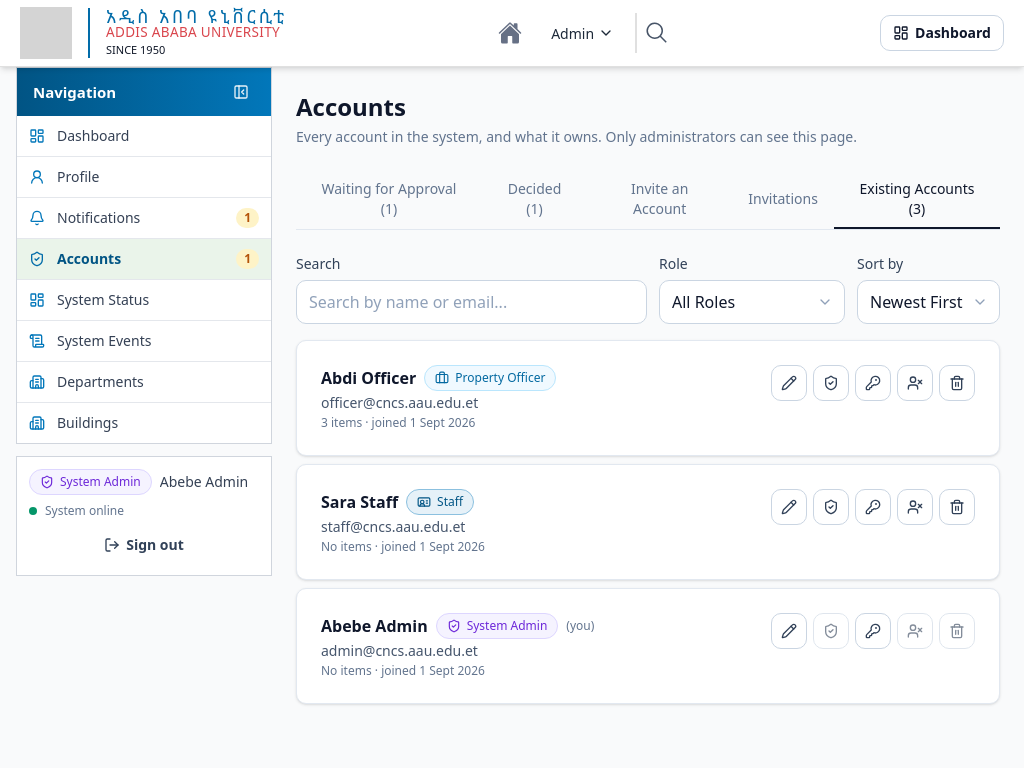
Test: /admin/users — inviting a privileged account (T6) › hands the administrator the single-use link when nothing was emailed
The image size is (1024, 768).
Click the button "Invite an Account" at (660, 200), box top-left (587, 171), bottom-right (732, 229)
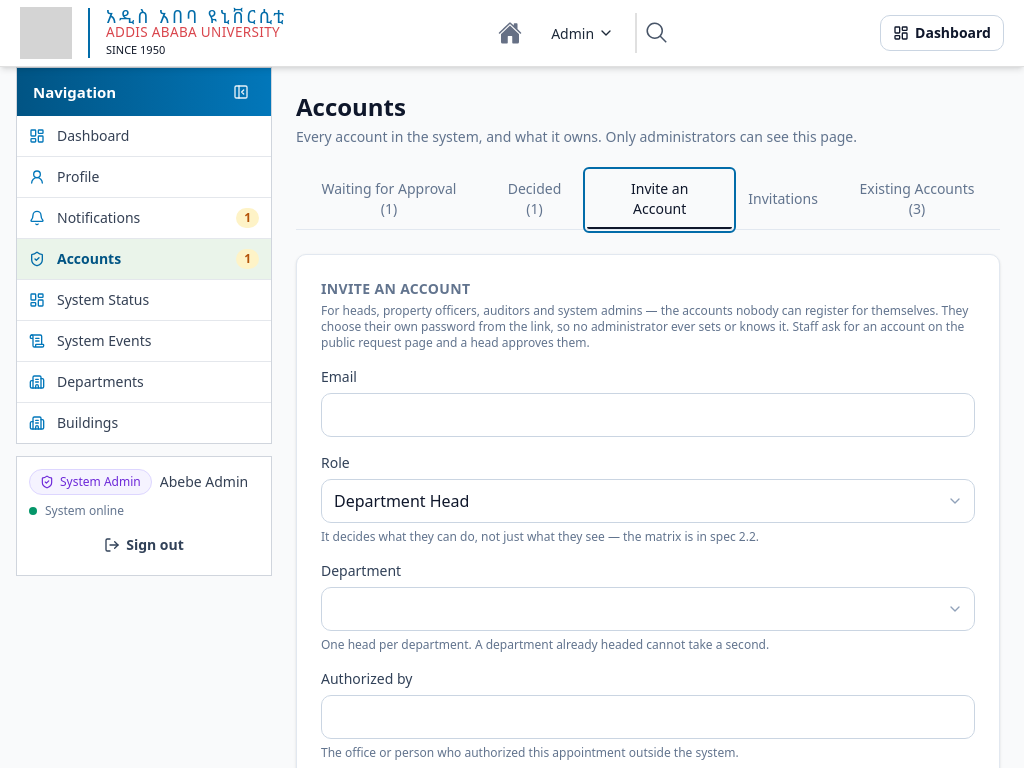
Check: the heading "Invite an account" is shown, box top-left (321, 279), bottom-right (470, 298)
Type "newhead@cncs.aau.edu.et" into the field labelled "Email" at (648, 415), box top-left (321, 393), bottom-right (975, 437)
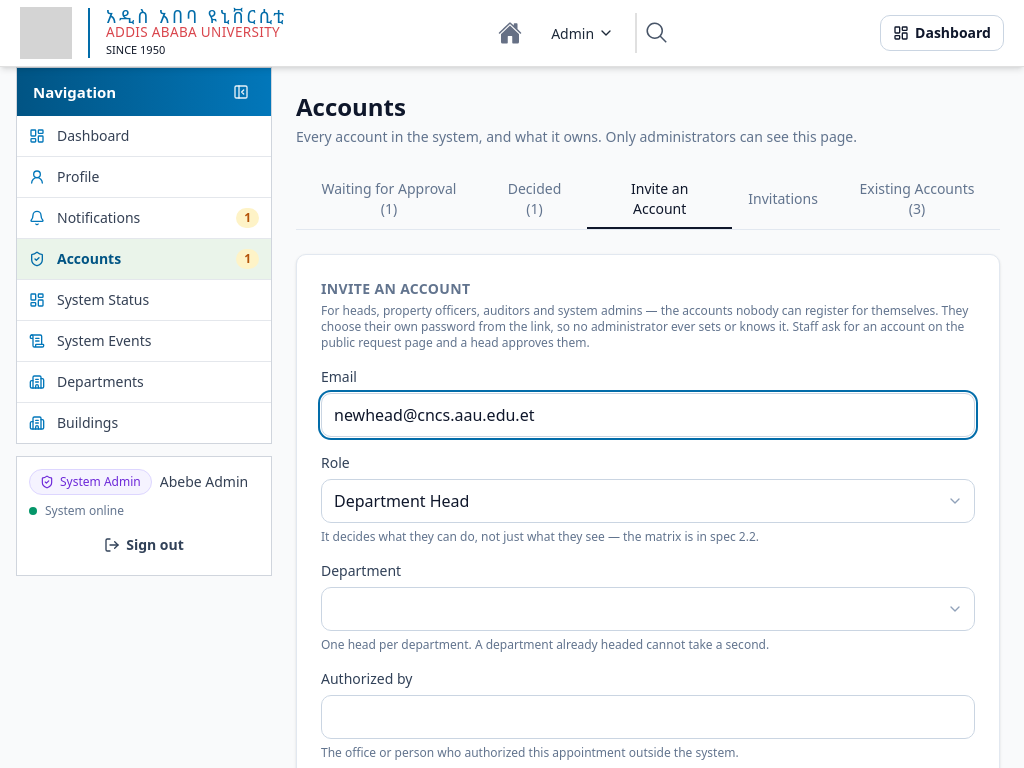
Select "Physics" in the dropdown labelled "Department" at (648, 609), box top-left (321, 587), bottom-right (975, 631)
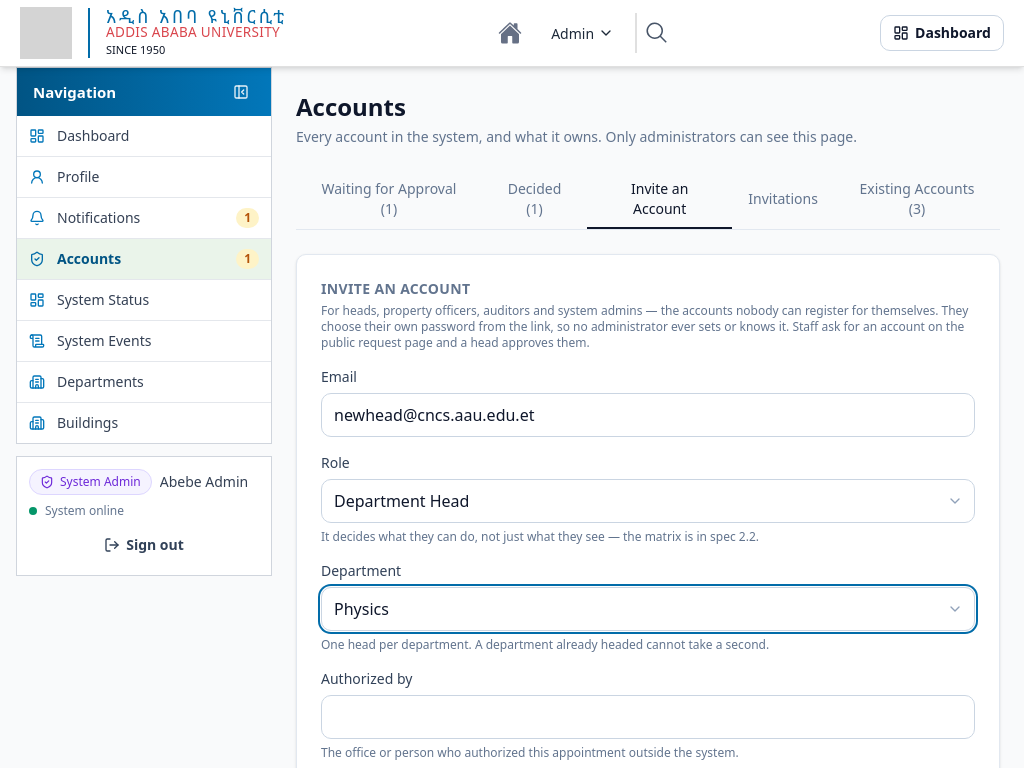
Type "College Office" into the field labelled "Authorized by" at (648, 717), box top-left (321, 695), bottom-right (975, 739)
(page scrolled)
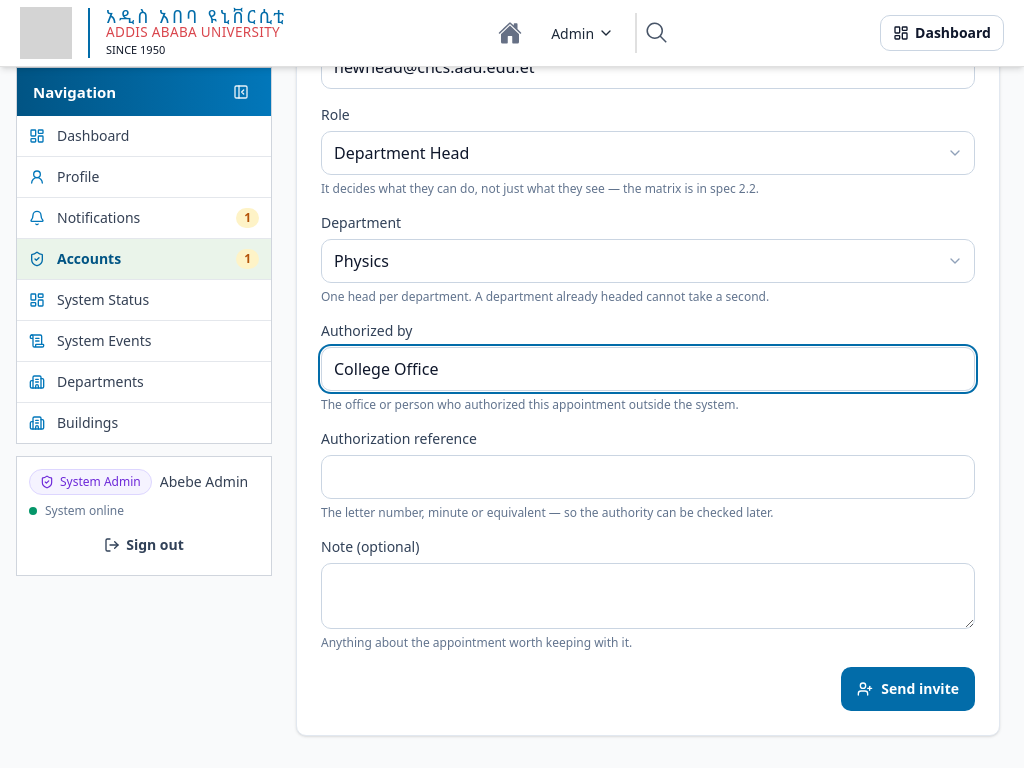
Type "CNCS/HR/2026/117" into the field labelled "Authorization reference" at (648, 477), box top-left (321, 455), bottom-right (975, 499)
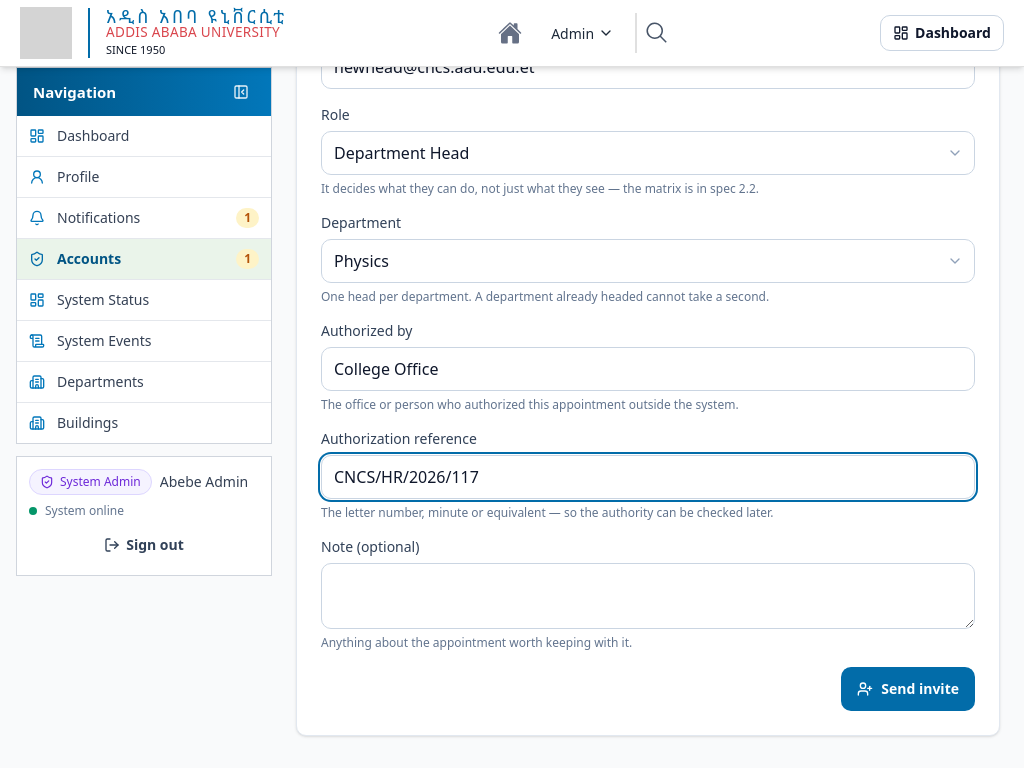
Click the button "Send invite" at (908, 689), box top-left (841, 667), bottom-right (975, 711)
(page scrolled)
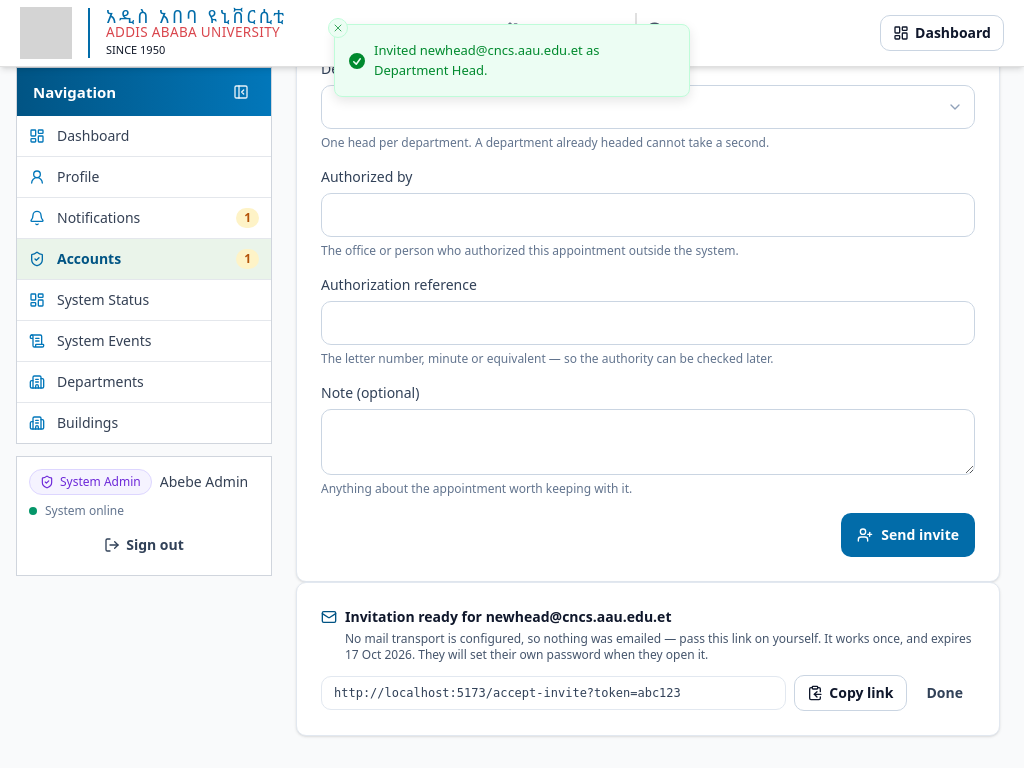
Check: the text "No mail transport is configured" is shown, box top-left (345, 630), bottom-right (821, 647)
Check: the text "http://localhost:5173/accept-invite?token=abc123" is shown, box top-left (321, 676), bottom-right (786, 710)
Check: the button "Copy link" is shown, box top-left (794, 675), bottom-right (906, 711)
